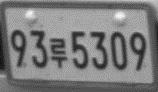0: (110, 31, 128, 69)
3: (89, 31, 108, 69), (29, 29, 47, 69)
5: (70, 30, 88, 69)
9: (129, 31, 146, 71), (10, 29, 26, 67)
루: (49, 38, 68, 68)
